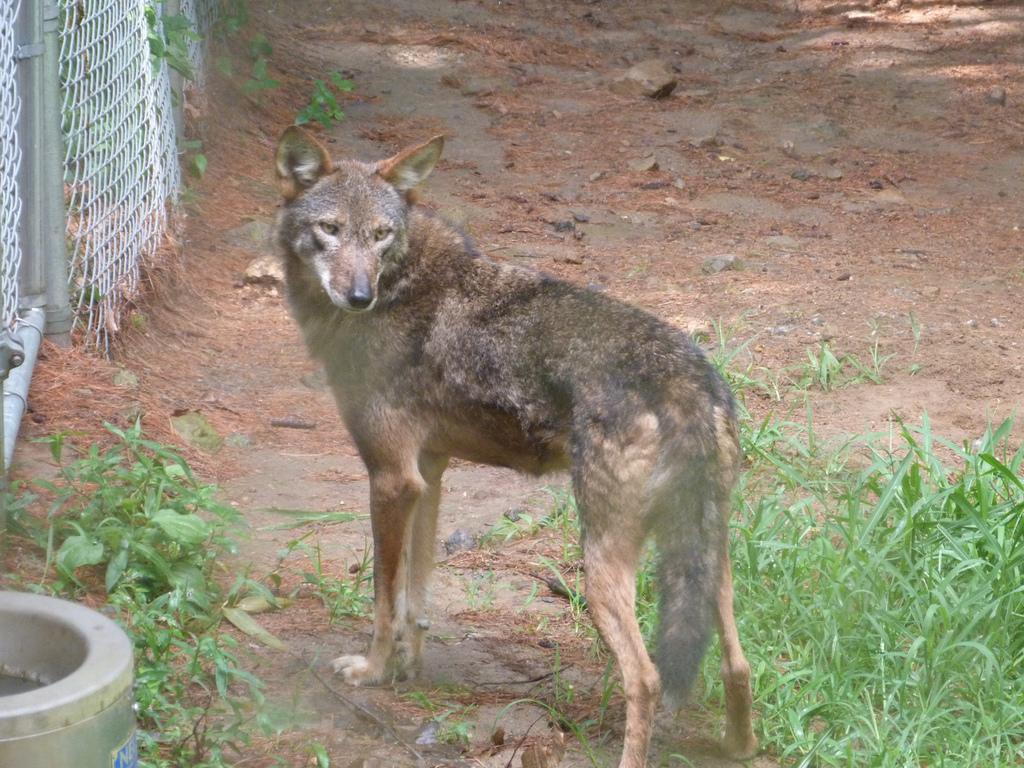Wolf: (278, 118, 761, 768)
